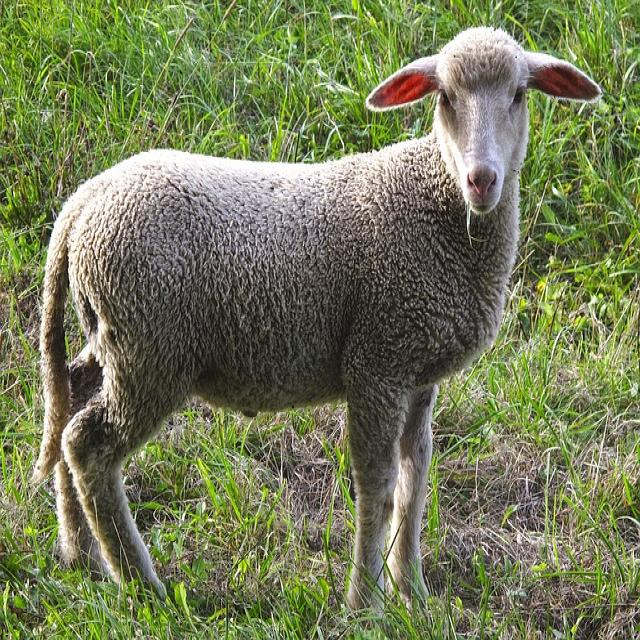goat: (30, 27, 605, 614)
